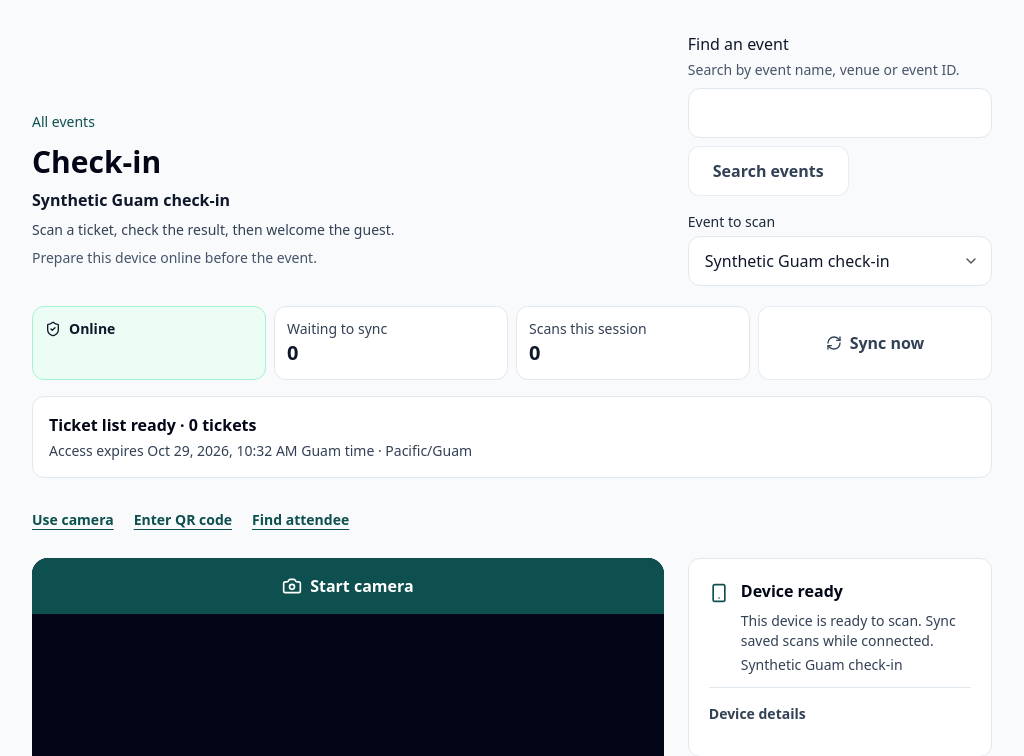
scanner recovery and camera ownership › keeps access expiry visible and uses the earlier device authorization window
Expected: the text "Ticket list ready · 0 tickets" is shown, [49,414,256,436]
Expected: the heading "Check-in" is shown, [32,144,161,180]
Click the heading "Device details".
click(757, 714)  # box [709,704,806,723]
(page scrolled)
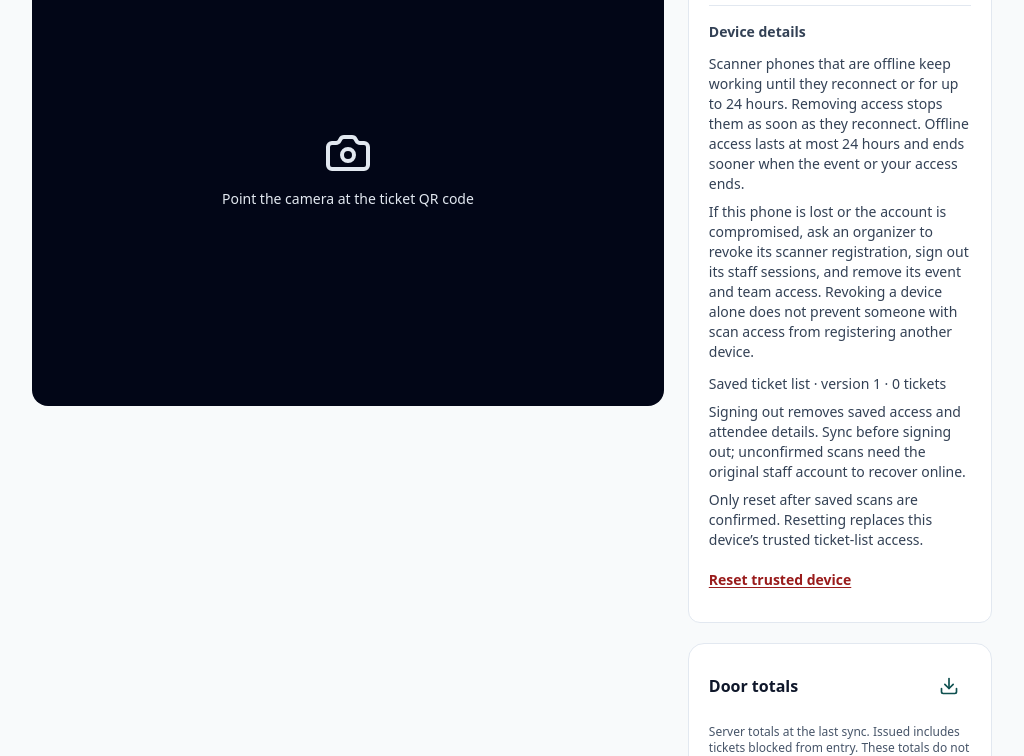
Result: the text "Saved ticket list · version 1 · 0 tickets" is shown at [709,374,971,394]
